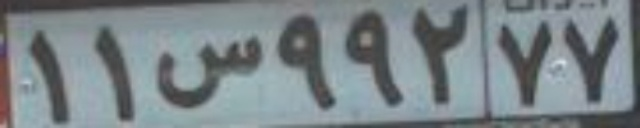1: (88, 24, 133, 119), (26, 29, 69, 122)
2: (410, 3, 470, 104)
7: (561, 15, 620, 104), (496, 19, 549, 107)
9: (274, 13, 334, 111), (343, 9, 400, 106)
sin: (151, 34, 264, 110)
